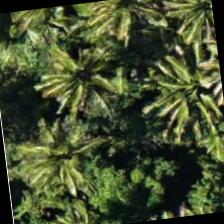Kelapa_Sawit: (22, 31, 122, 132), (20, 114, 120, 214), (148, 30, 223, 129), (69, 0, 167, 65), (10, 0, 105, 58)
